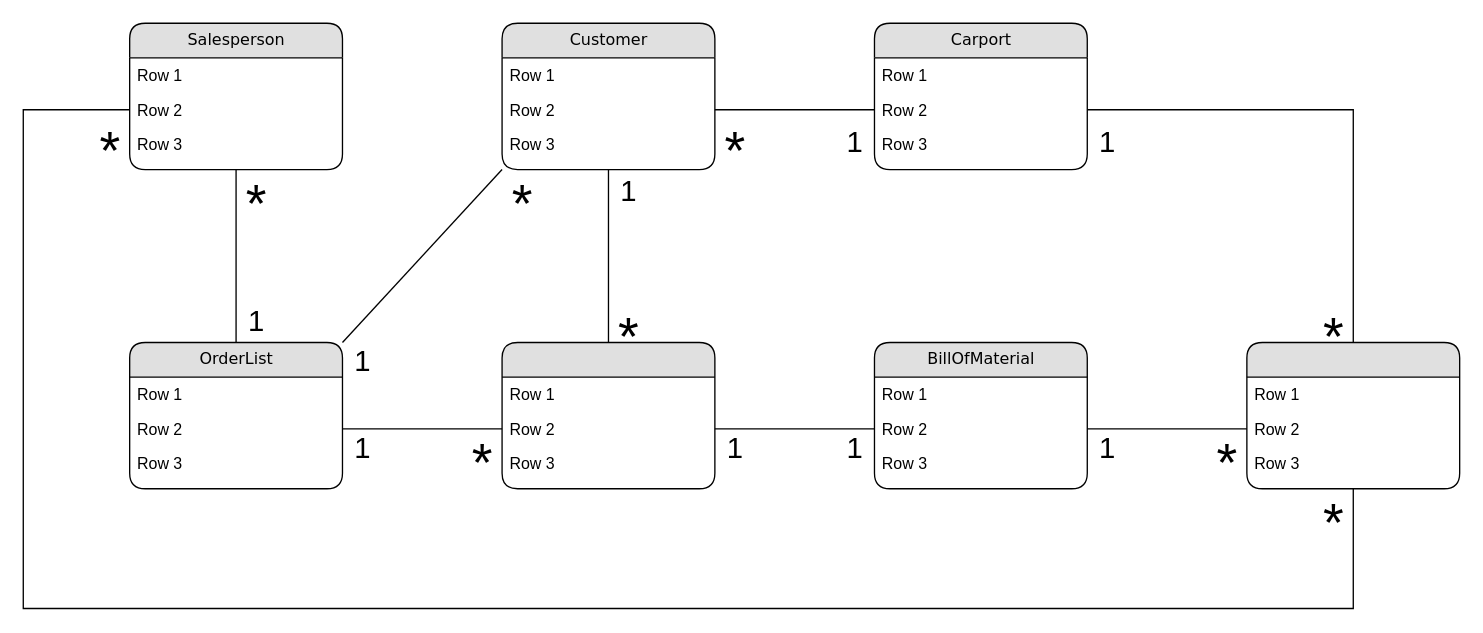
This 1483x633 diagram has some shape labels left out. Each missing label, with the box of its shape:
Material: (1246, 341, 1460, 489)
Order: (501, 341, 715, 489)
